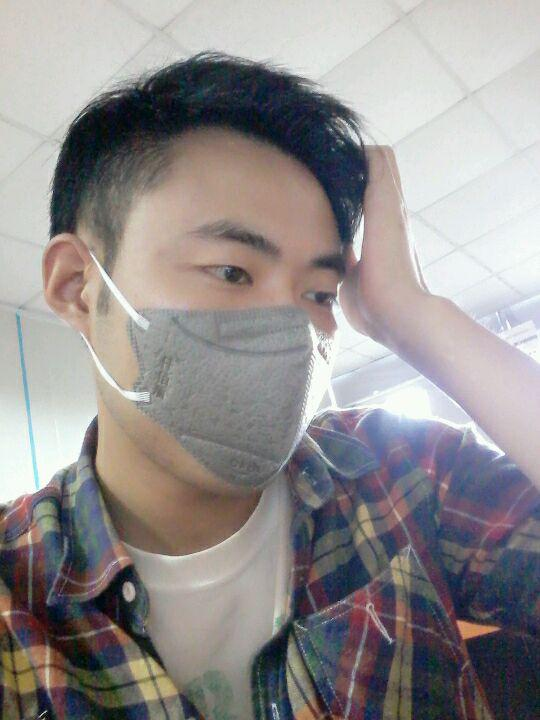OK: (87, 213, 358, 484)
